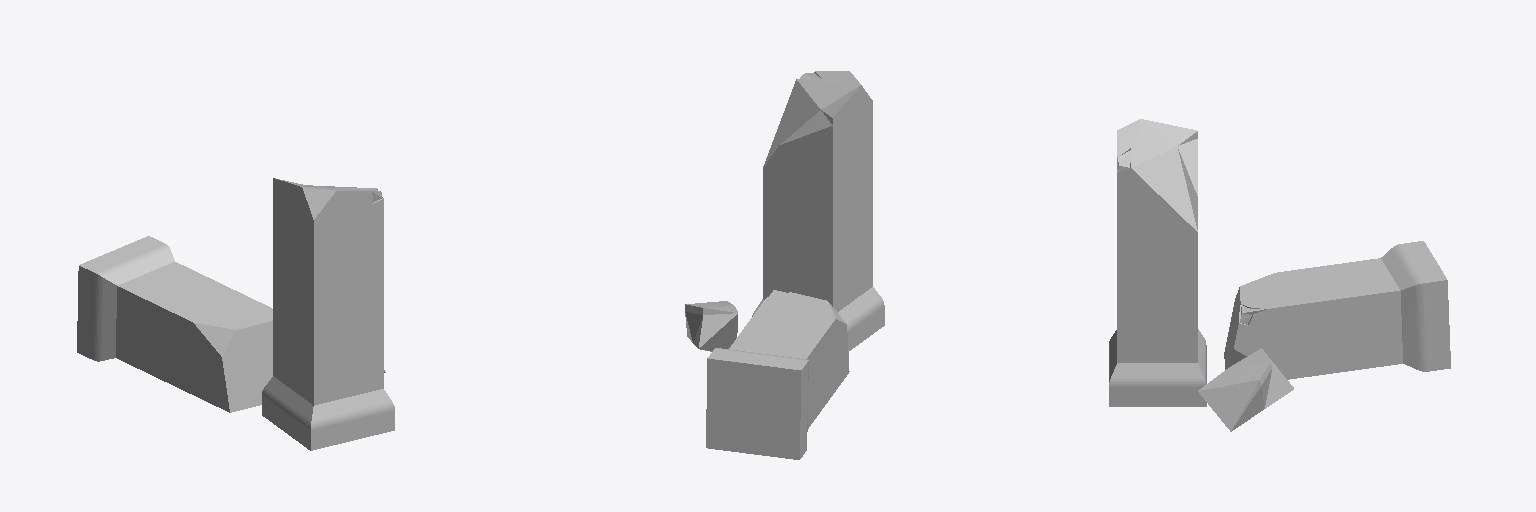
Rendered from Bottom.obj.
3 renders of one model, left to right at view 1: azimuth 30°, elevation 25°; view 2: azimuth 150°, elevation 25°; view 3: azimuth 270°, elevation 25°, orthographic.
Visible parts, largest first — view 1: Bottom; view 2: Bottom; view 3: Bottom.
Part boxes in pixels (left/top/right/bottom): Bottom: left=77, top=178, right=394, bottom=450; Bottom: left=685, top=71, right=884, bottom=459; Bottom: left=1109, top=119, right=1450, bottom=431.
Bounding box in the file's own units: 30.12 × 34.34 × 42.36.